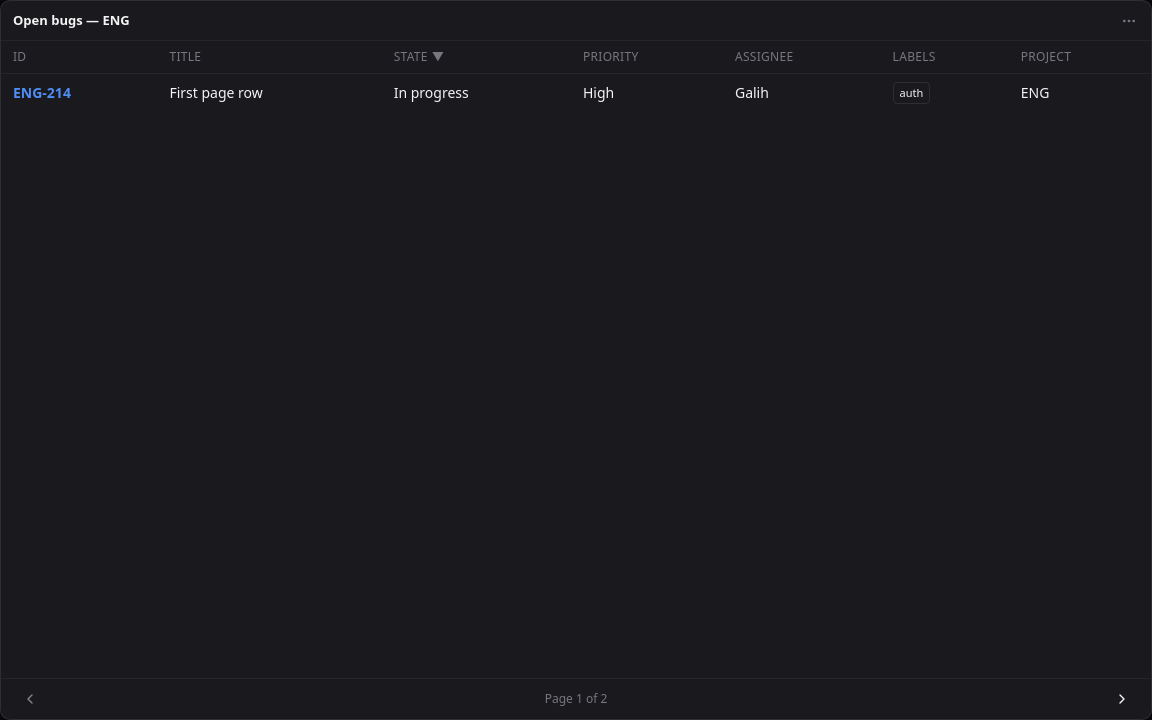
Test: WidgetCard pql_table widgets (C100T1) › paginates through the LIMIT-capped total
Expected: the text "First page row" is shown, [158,74,382,112]
Expected: the text "Page 1 of 2" is shown, [545,691,607,707]
Click the button named "Next page": click(1122, 699) [1105,685,1139,713]
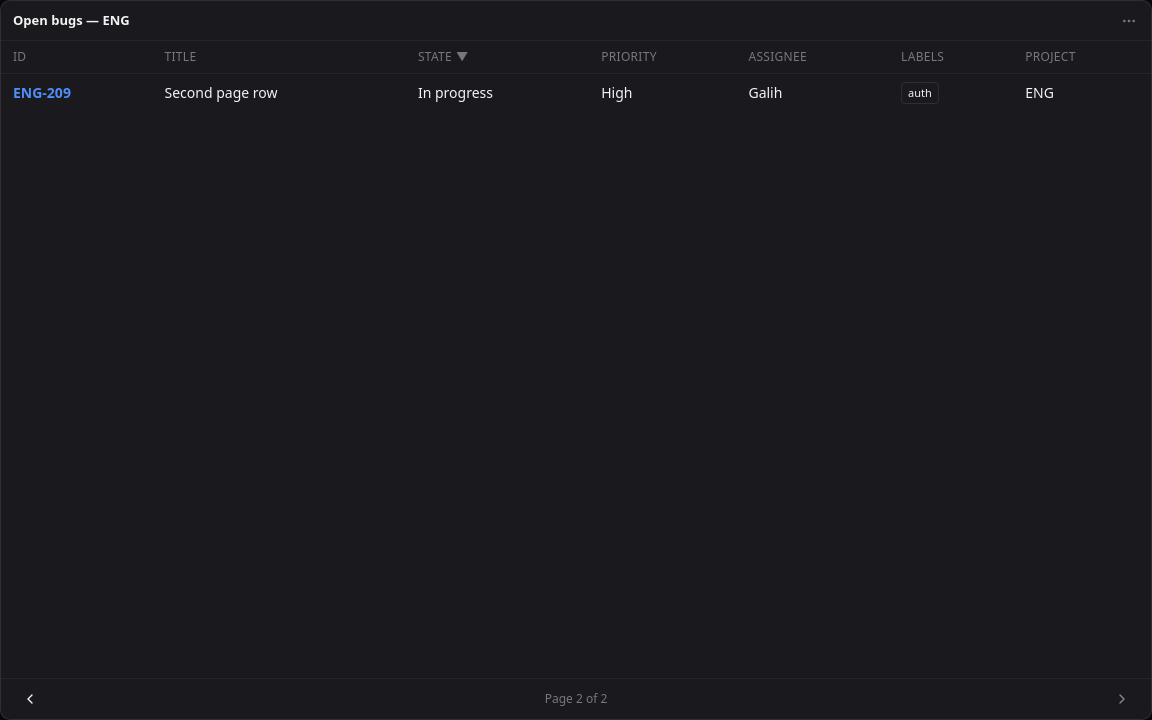
Expected: the text "Second page row" is shown, [152,74,406,112]
